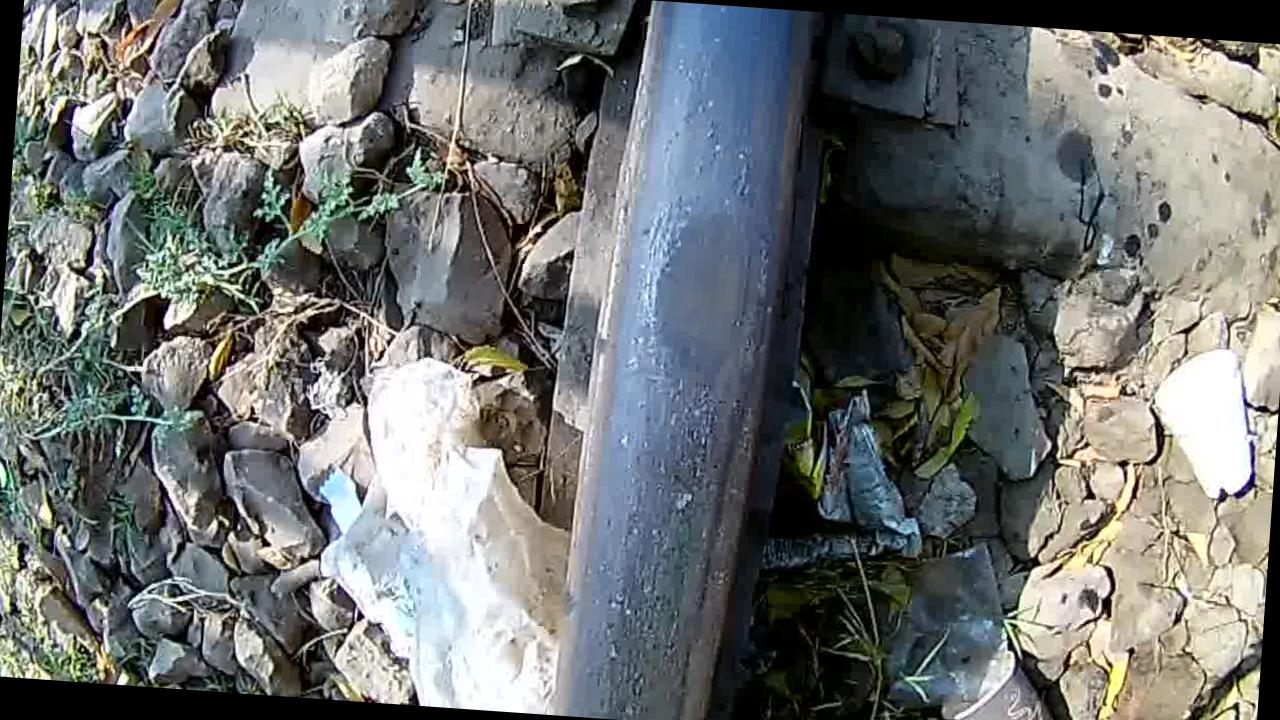bolt_missing: (584, 144, 799, 572)
